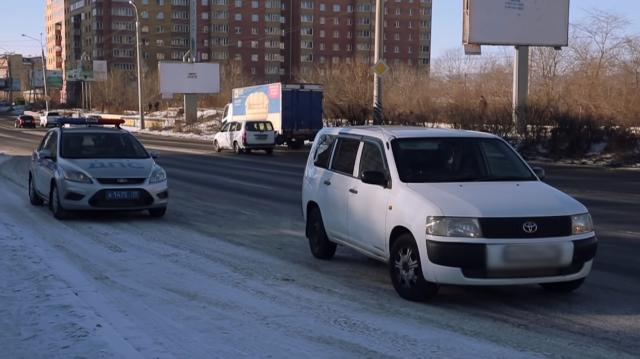non emergency car: (303, 125, 601, 307), (220, 85, 327, 150), (211, 119, 279, 158), (16, 114, 37, 131)
police car: (27, 118, 171, 223)
